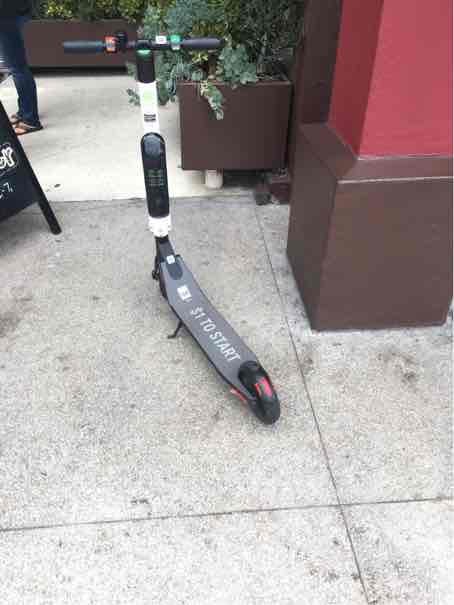scooter: (61, 24, 314, 429)
